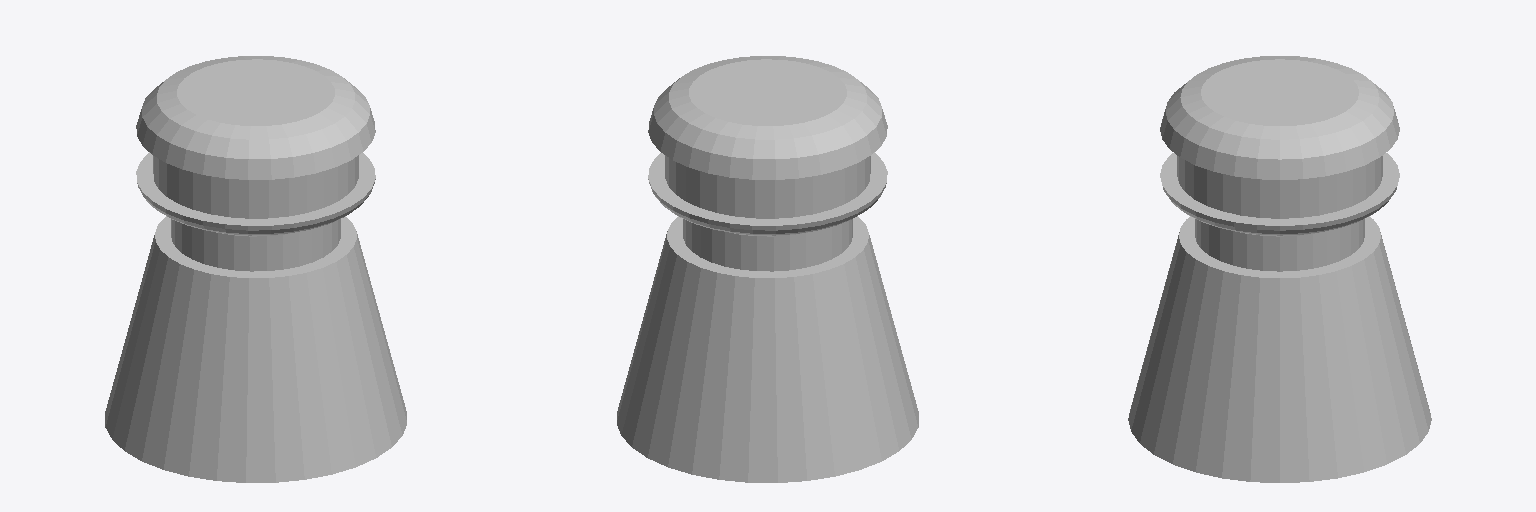
Rendered from sniper_tower.obj.
The picture shows the model from 3 angles: view 1: azimuth 30°, elevation 25°; view 2: azimuth 150°, elevation 25°; view 3: azimuth 270°, elevation 25°; orthographic projection.
Parts seen in each view (by area): view 1: Cone; view 2: Cone; view 3: Cone.
Boxes of the visible parts, x1,y1,x2,y2 form: Cone: [105, 56, 406, 482]; Cone: [617, 56, 918, 482]; Cone: [1128, 56, 1431, 482].
Size of the model in its own units: 1.5 by 1.78 by 1.5.